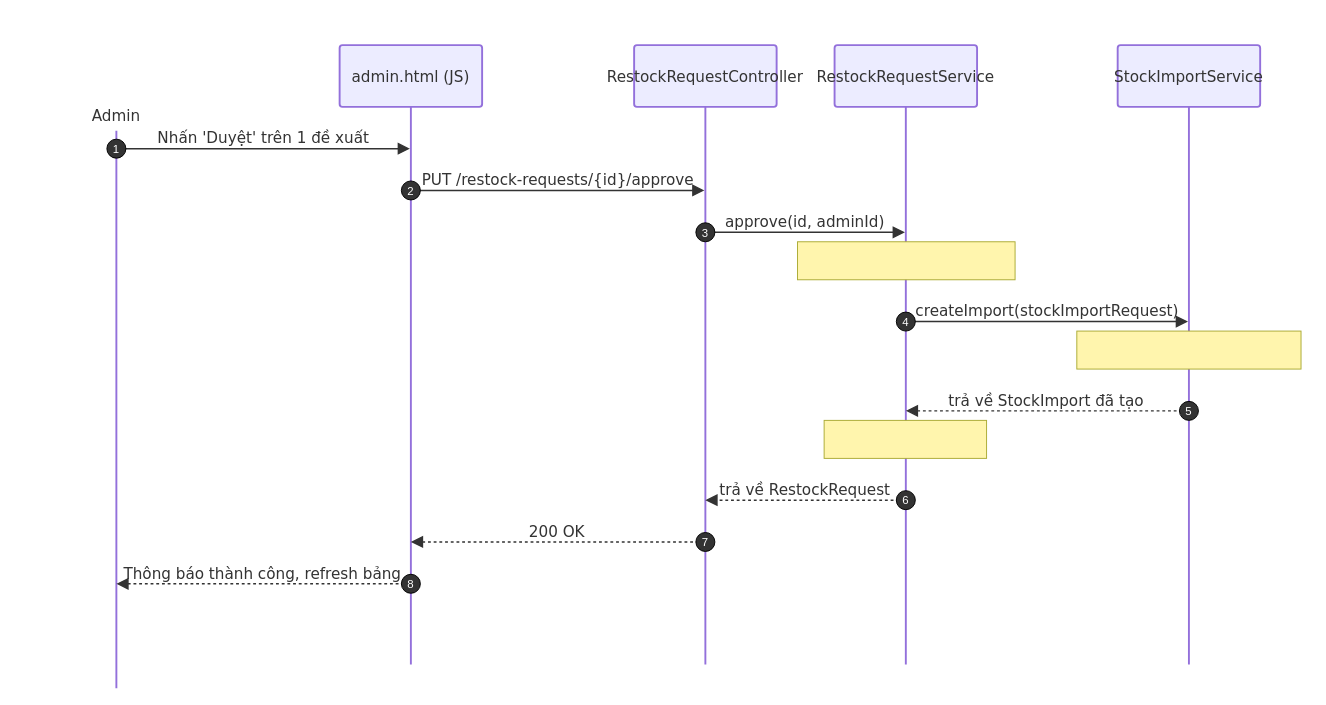
Image size: 1326x705. Some labels were removed from this diagram. The shapes that lost their labels are listed below. From the top down, each one's centre as x and y in pixels, then its label:
At (906,260): "kiểm tra trạng thái = PENDING".
At (1188,349): "cộng tồn kho + lưu StockImport".
At (905,438): "set status = APPROVED".
